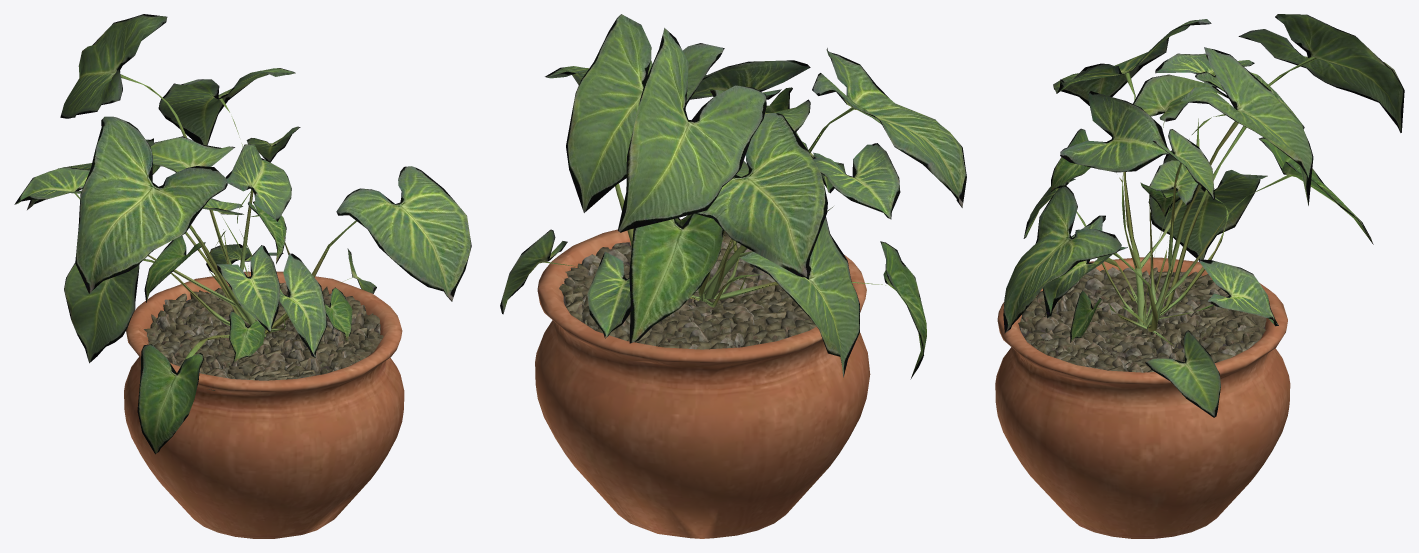
File: potted_plant_02.l.1fe98abc.glb
3 renders of one model, left to right at view 1: azimuth 30°, elevation 25°; view 2: azimuth 150°, elevation 25°; view 3: azimuth 270°, elevation 25°, orthographic. The views are drawn at different scales.
Parts seen in each view (by area): view 1: potted_plant_02_leaves, potted_plant_02_pot, potted_plant_02_dirt; view 2: potted_plant_02_leaves, potted_plant_02_pot, potted_plant_02_dirt; view 3: potted_plant_02_leaves, potted_plant_02_pot, potted_plant_02_dirt.
Part boxes in pixels (box(x1,y1,x2,y2)): potted_plant_02_leaves: box(14, 14, 471, 454); potted_plant_02_pot: box(124, 271, 404, 538); potted_plant_02_dirt: box(144, 282, 383, 390); potted_plant_02_leaves: box(500, 14, 966, 379); potted_plant_02_pot: box(535, 219, 870, 538); potted_plant_02_dirt: box(559, 232, 816, 349); potted_plant_02_leaves: box(1003, 14, 1404, 417); potted_plant_02_pot: box(995, 257, 1290, 538); potted_plant_02_dirt: box(1018, 267, 1266, 372).
Size of the model in its own units: 0.7012 by 0.8401 by 0.6545.
Materials: 2 (2 with a texture image).
